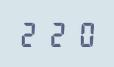two: (18, 20, 42, 47), (44, 20, 68, 47)
zero: (69, 20, 93, 47)
